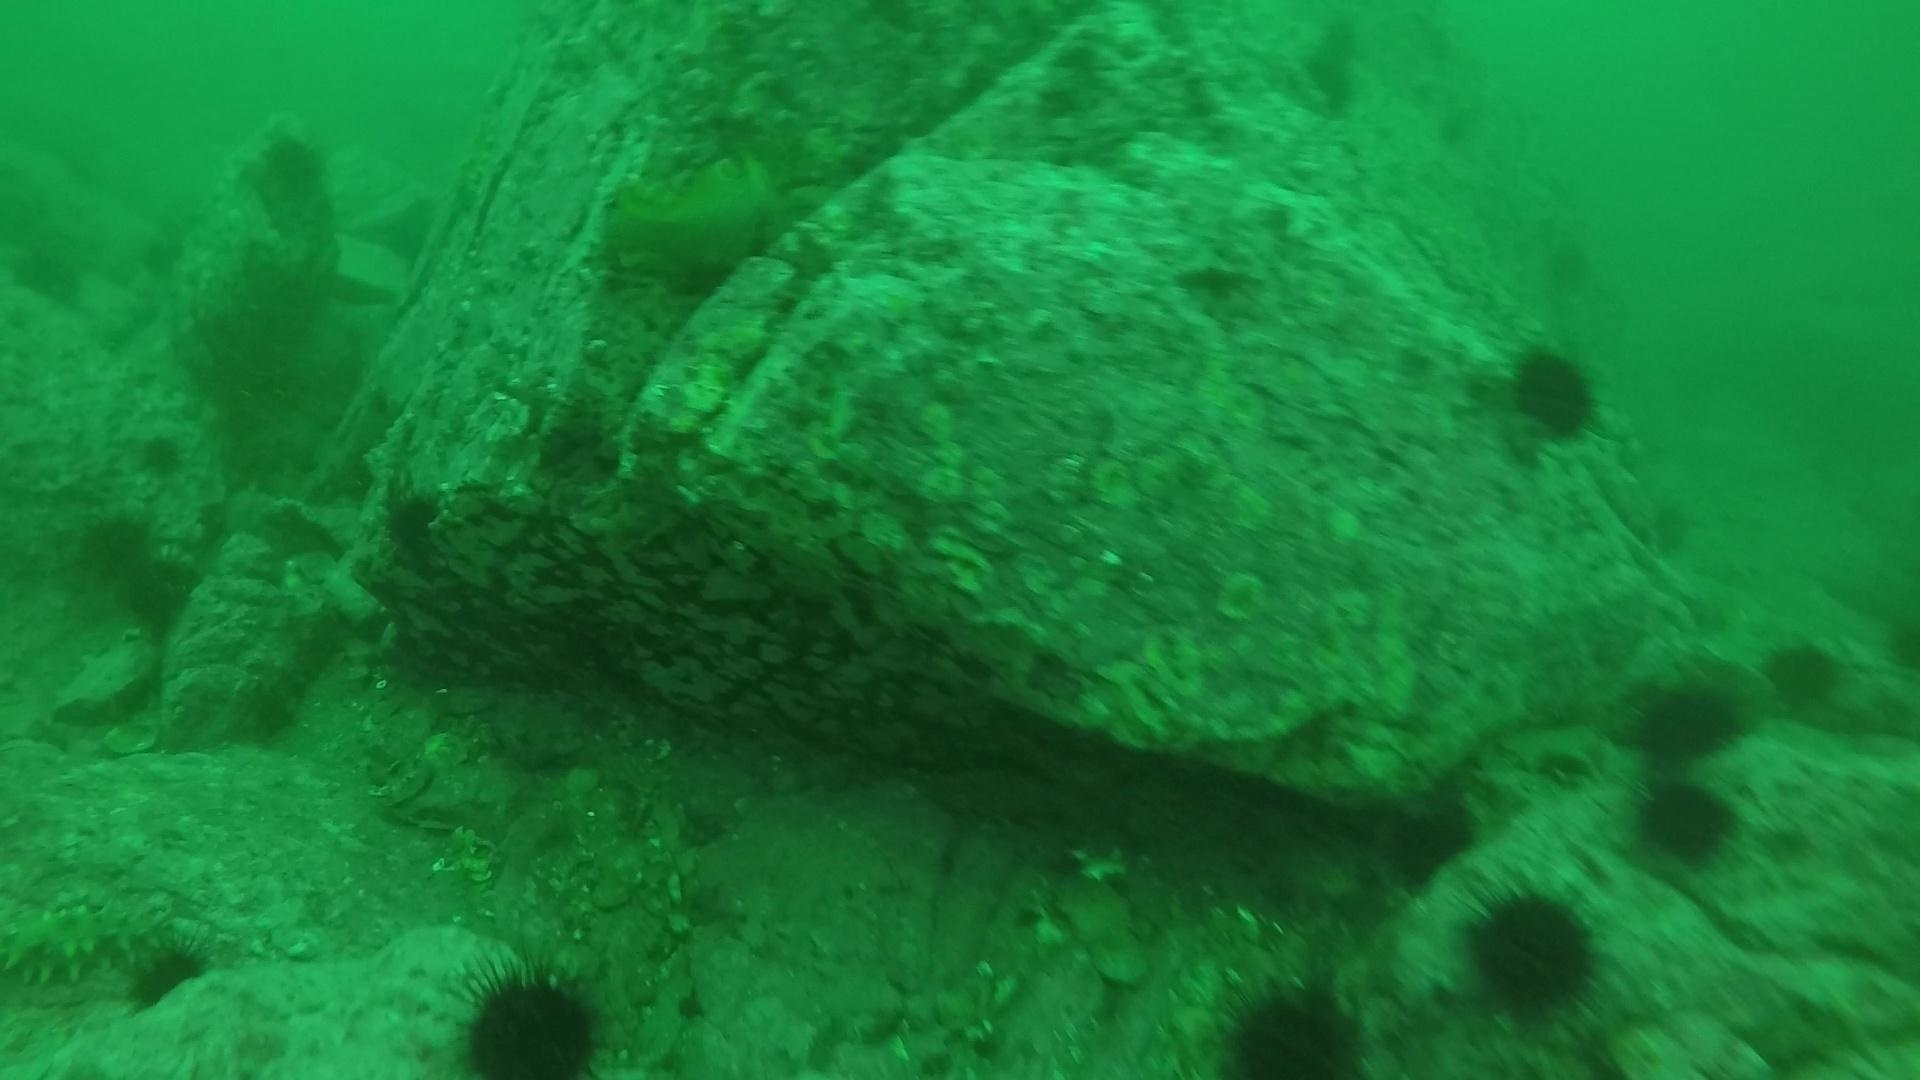echinus: (1455, 878, 1607, 1022), (444, 952, 613, 1077), (1209, 975, 1373, 1077), (1626, 673, 1750, 767), (1502, 339, 1606, 447), (1630, 773, 1742, 869), (116, 930, 214, 1015), (69, 504, 164, 591), (1756, 632, 1849, 715), (247, 125, 334, 208)
holothurian: (0, 890, 182, 996)
